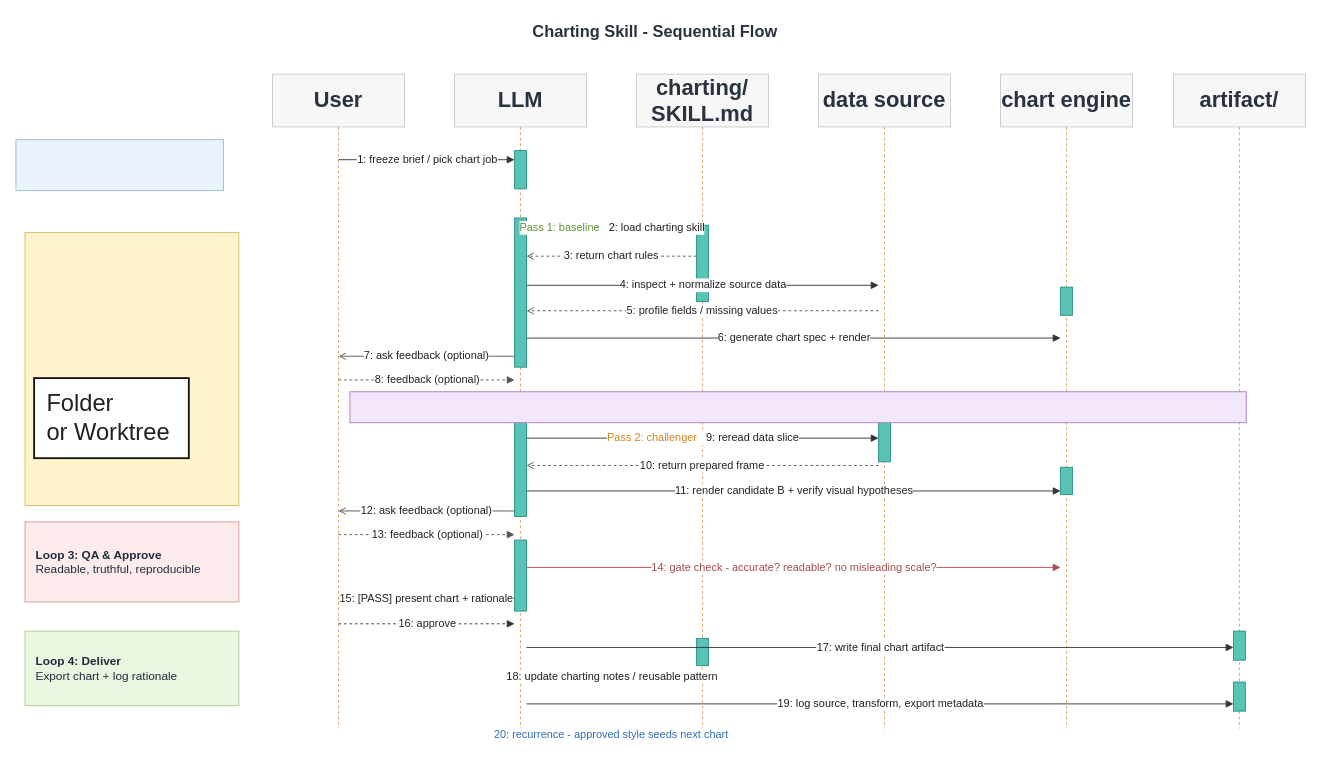
Image size: 1321x758. Some labels were removed from this diagram. Each missing label, with the box of its shape:
Loop 1: Intake Freeze chart request + inputs: (15, 139, 223, 191)
Loop 2: Prepare & Render x2 Same chart brief, two candidate specs: (24, 232, 239, 506)
Mutate - copy + tune - axes, labels, color, annotations, export path: (349, 391, 1246, 423)
